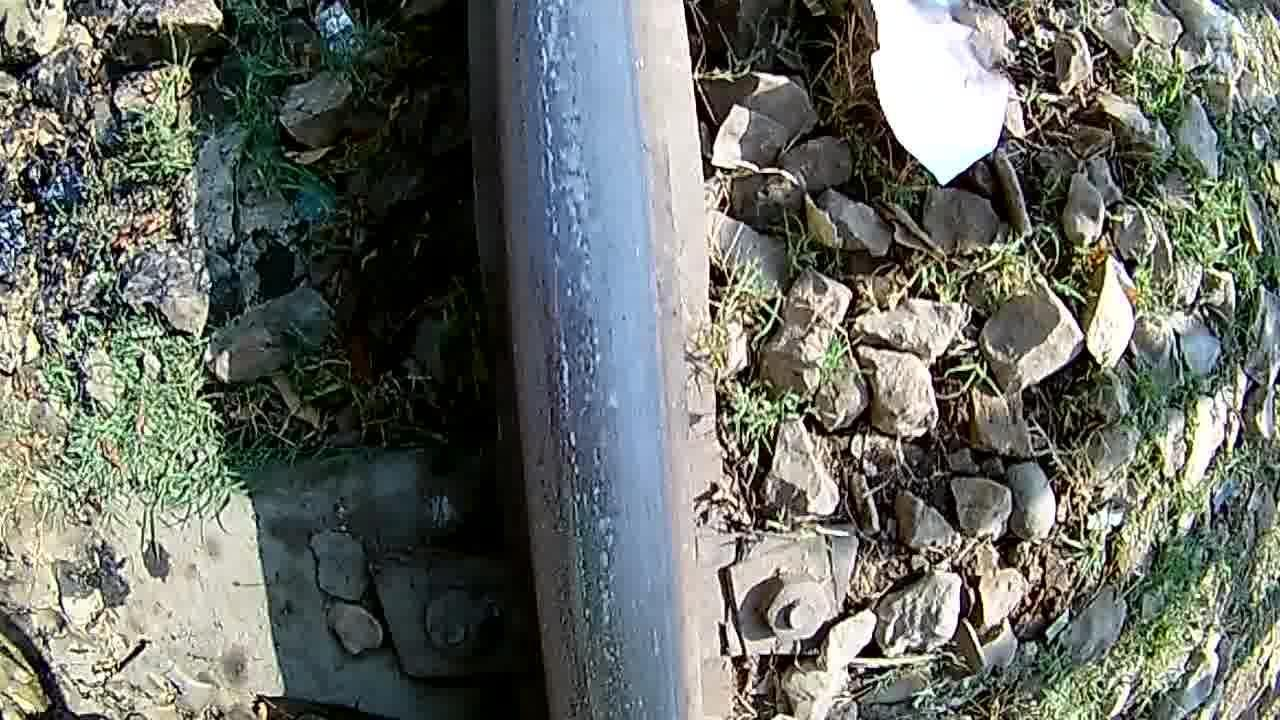crack: (522, 2, 663, 720)
